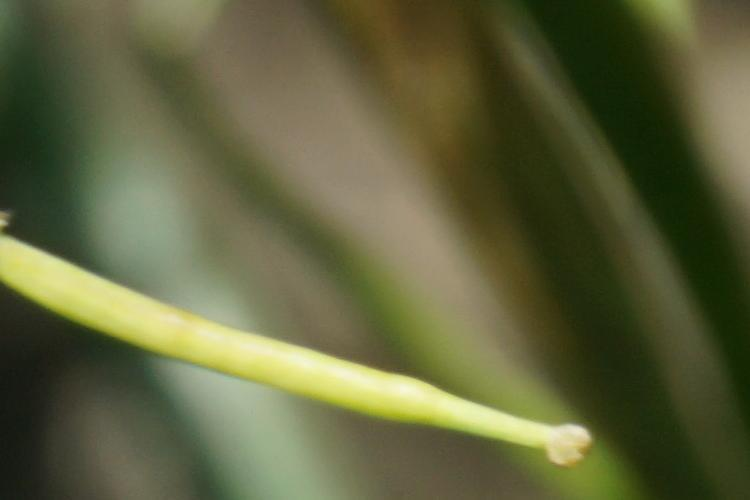pod: (41, 248, 624, 473)
